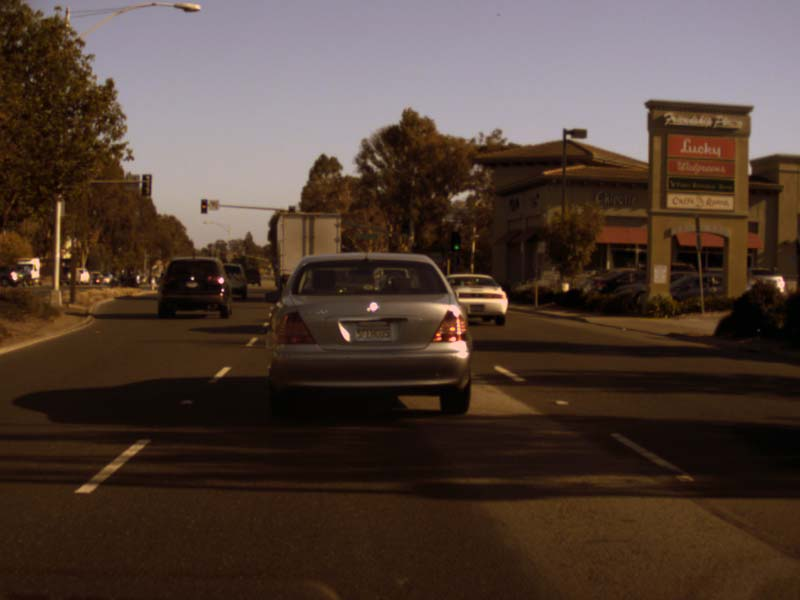Green: (452, 232, 459, 251)
Yellow: (200, 198, 207, 213)
